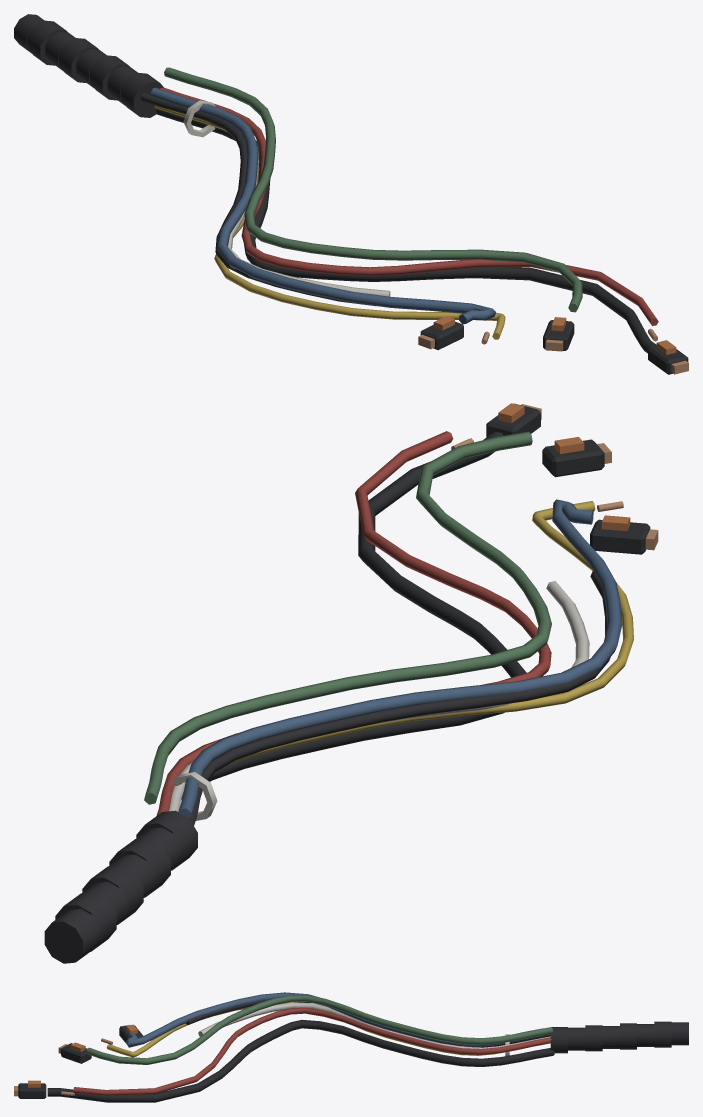
File: astro_exposed_wire_harness_c.fbx
3 views of the same model, one above another, from view 1: azimuth 30°, elevation 25°; view 2: azimuth 150°, elevation 25°; view 3: azimuth 270°, elevation 25° (orthographic). The views are drawn at different scales.
Parts seen in each view (by area): view 1: ExposedWireHarnessC_Body; view 2: ExposedWireHarnessC_Body; view 3: ExposedWireHarnessC_Body.
Part boxes in pixels (box(x1,y1,x2,y2)): ExposedWireHarnessC_Body: box(14, 14, 688, 374); ExposedWireHarnessC_Body: box(44, 403, 658, 963); ExposedWireHarnessC_Body: box(14, 992, 688, 1102).
Bounding box in the file's own units: 51.67 × 7.87 × 156.
